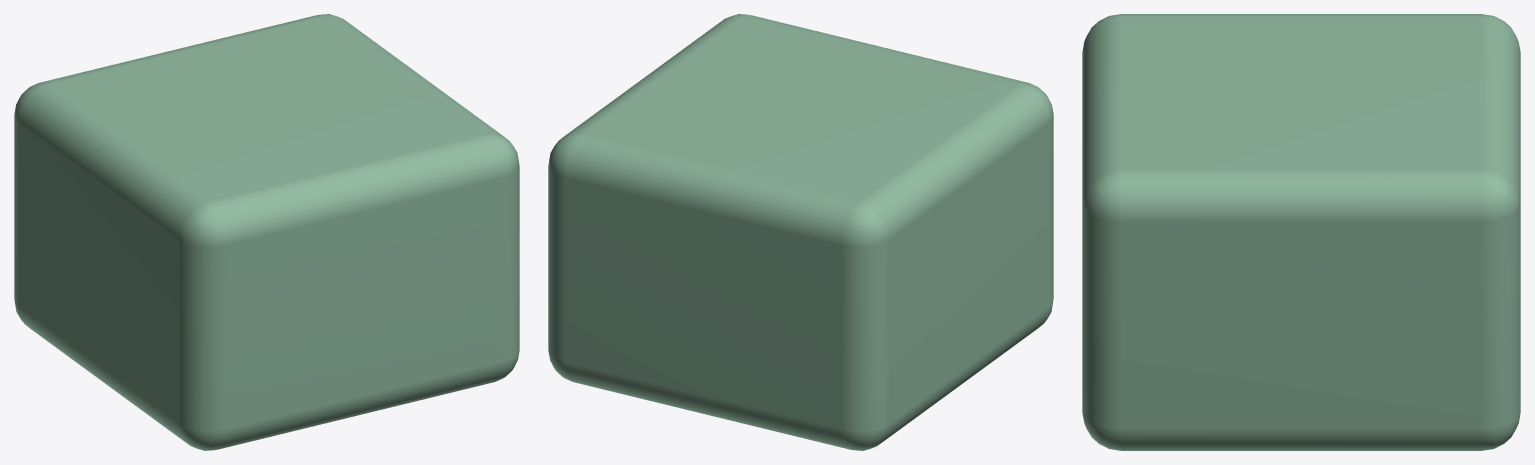
File: jade_block.glb
3 renders of one model, left to right at view 1: azimuth 30°, elevation 25°; view 2: azimuth 150°, elevation 25°; view 3: azimuth 270°, elevation 25°, orthographic. The views are drawn at different scales.
Visible parts, largest first — view 1: Jade block core; view 2: Jade block core; view 3: Jade block core.
Part boxes in pixels (<box>): Jade block core: <box>14,14,519,450</box>; Jade block core: <box>548,14,1053,450</box>; Jade block core: <box>1082,14,1520,450</box>.
Size of the model in its own units: 1 by 0.7 by 1.
